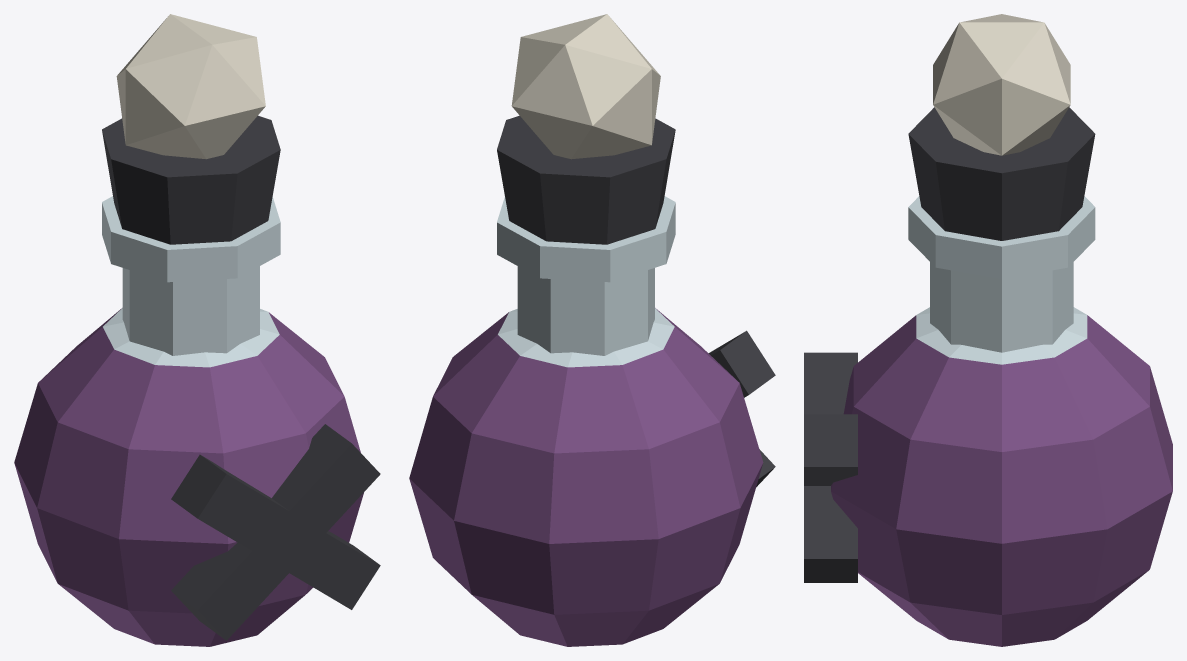
Rendered from vfem2_draught_torturer.obj.
3 views of the same model, side by side, from view 1: azimuth 30°, elevation 25°; view 2: azimuth 150°, elevation 25°; view 3: azimuth 270°, elevation 25° (orthographic).
Visible parts, largest first — view 1: vfem2_draught_torturer; view 2: vfem2_draught_torturer; view 3: vfem2_draught_torturer.
Part boxes in pixels (x1,y1,x2,y2): vfem2_draught_torturer: (14, 14, 380, 646); vfem2_draught_torturer: (409, 14, 775, 646); vfem2_draught_torturer: (804, 14, 1172, 646).
Bounding box in the file's own units: 0.2 × 0.3733 × 0.2051.
